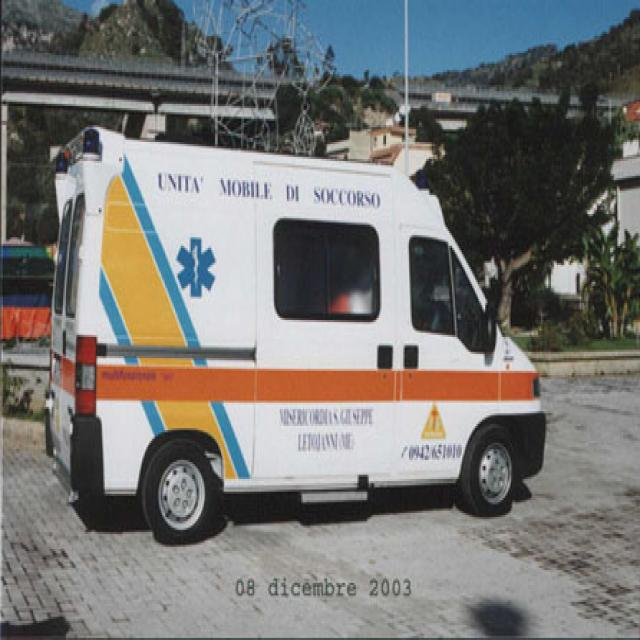emergency-vehicle: (45, 127, 542, 530)
